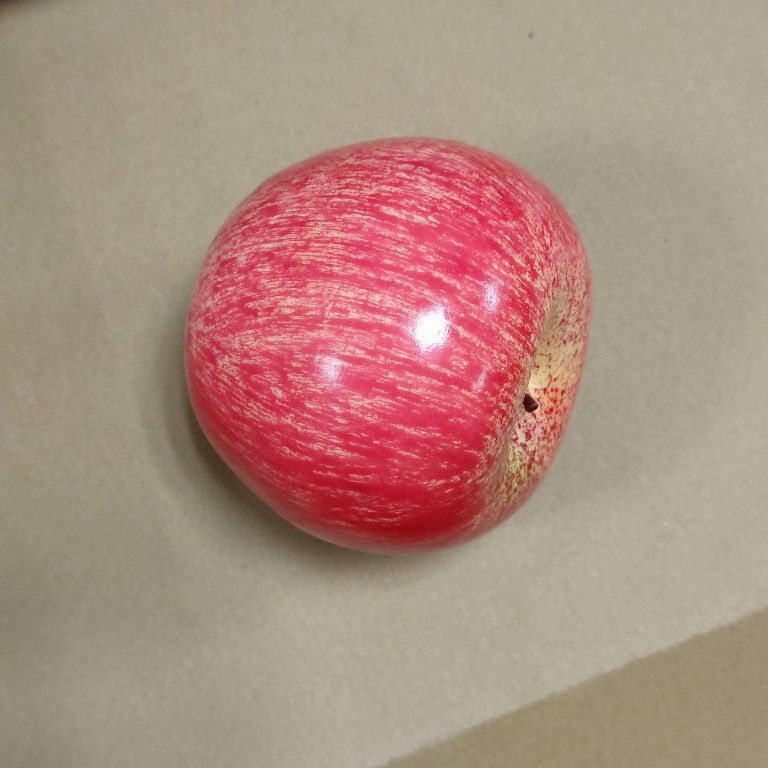fruit_apple: (177, 132, 601, 562)
